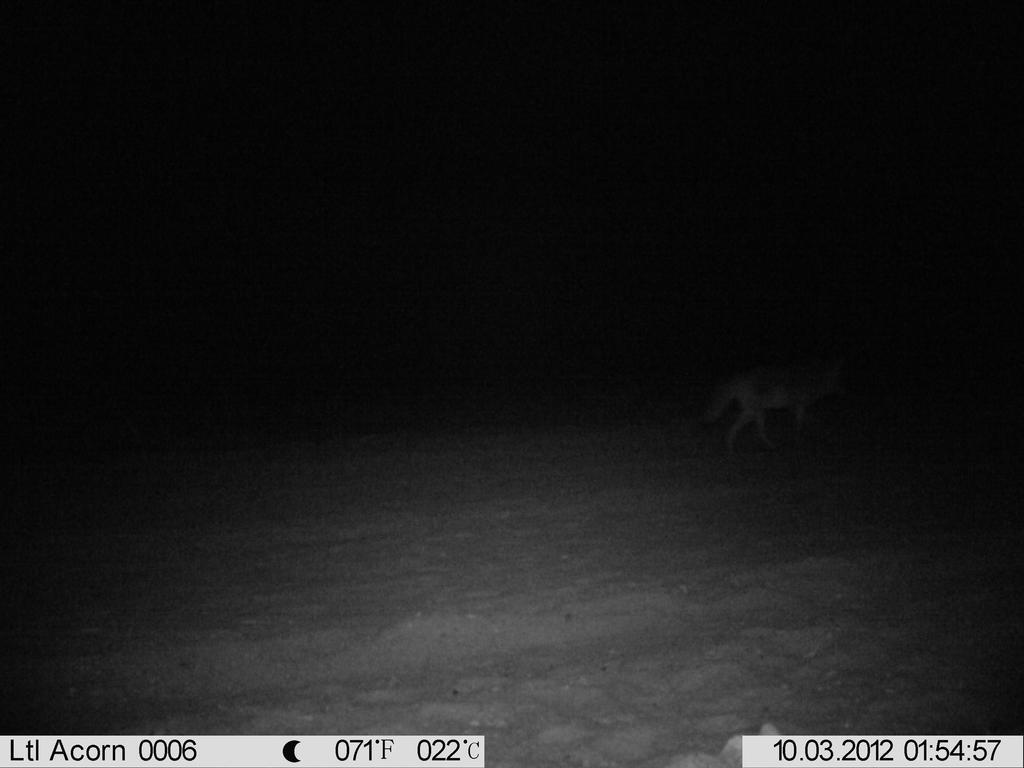coyote: (689, 340, 871, 459)
